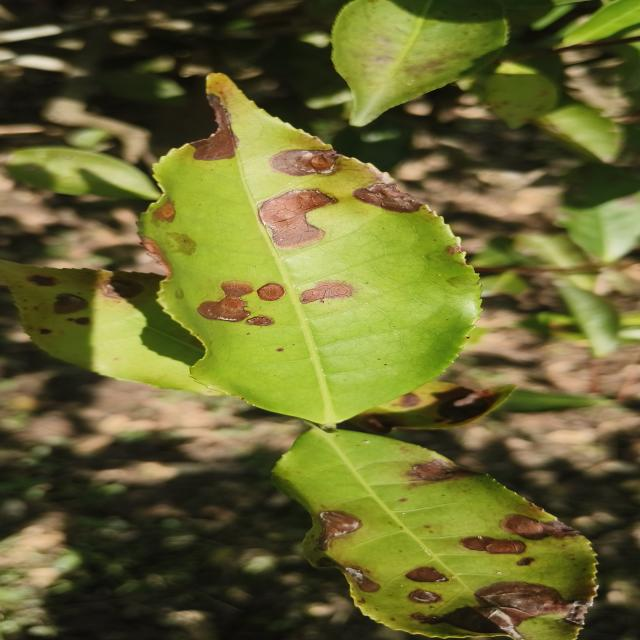Leaf: (140, 74, 477, 423), (274, 428, 594, 640), (0, 260, 223, 396), (332, 0, 510, 126), (556, 164, 640, 263), (7, 146, 160, 200), (536, 102, 624, 163), (556, 278, 619, 357), (484, 63, 557, 128), (562, 0, 640, 46)
